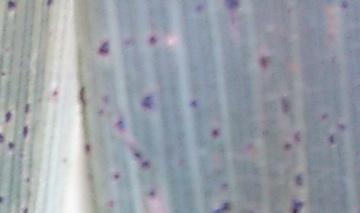tarspot: (222, 1, 242, 27), (94, 36, 111, 57), (287, 197, 304, 213), (77, 85, 89, 107), (278, 93, 290, 114), (210, 201, 231, 213), (257, 54, 272, 70), (139, 94, 153, 110), (113, 116, 127, 132), (97, 93, 112, 106), (293, 171, 304, 188), (292, 128, 302, 146), (2, 109, 14, 124), (130, 148, 143, 161), (22, 100, 31, 118), (21, 124, 31, 140), (335, 121, 348, 132), (337, 1, 352, 10), (139, 159, 151, 170), (147, 33, 157, 46), (280, 141, 291, 152), (94, 106, 105, 117), (48, 87, 60, 97), (5, 1, 16, 11), (188, 97, 198, 108), (209, 128, 220, 138), (104, 197, 115, 207), (318, 111, 330, 120), (328, 133, 336, 146), (194, 2, 204, 12), (44, 1, 56, 9), (83, 142, 92, 152), (219, 181, 229, 190), (7, 140, 15, 151), (19, 205, 30, 213), (1, 130, 6, 145), (111, 172, 120, 180), (146, 189, 157, 195), (1, 194, 5, 206), (25, 176, 31, 184)
